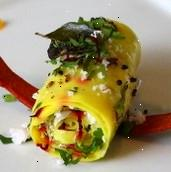khandvi: (33, 18, 145, 168)
